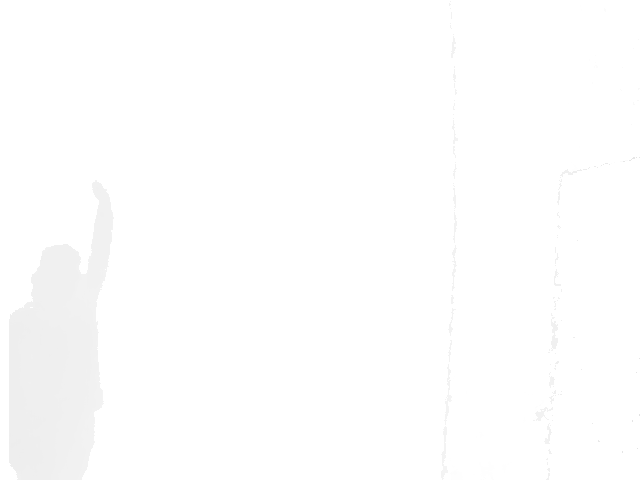hand: (89, 180, 112, 208)
head: (29, 243, 83, 308)
person: (8, 180, 116, 479)
